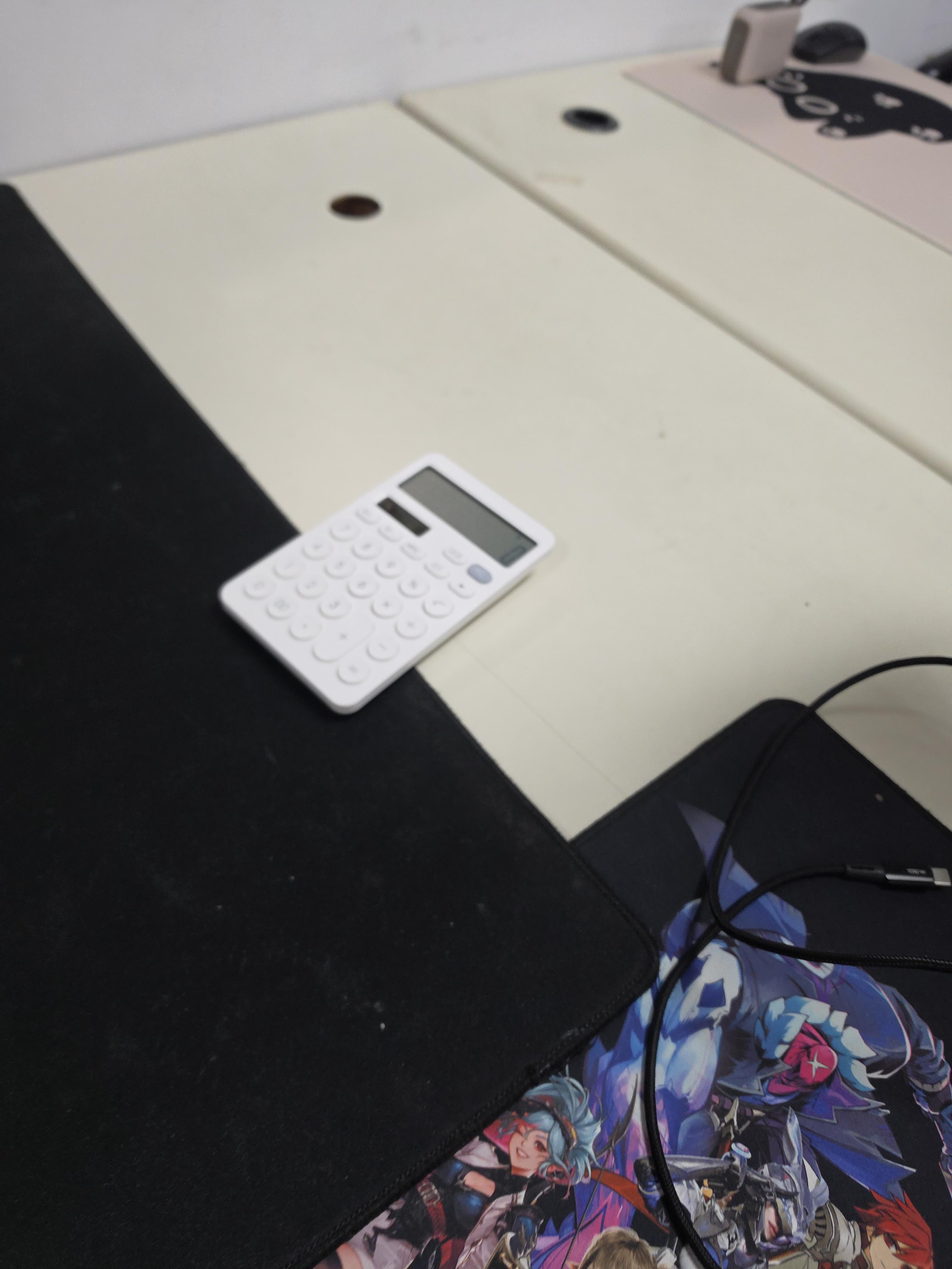calculator: (217, 451, 559, 717)
